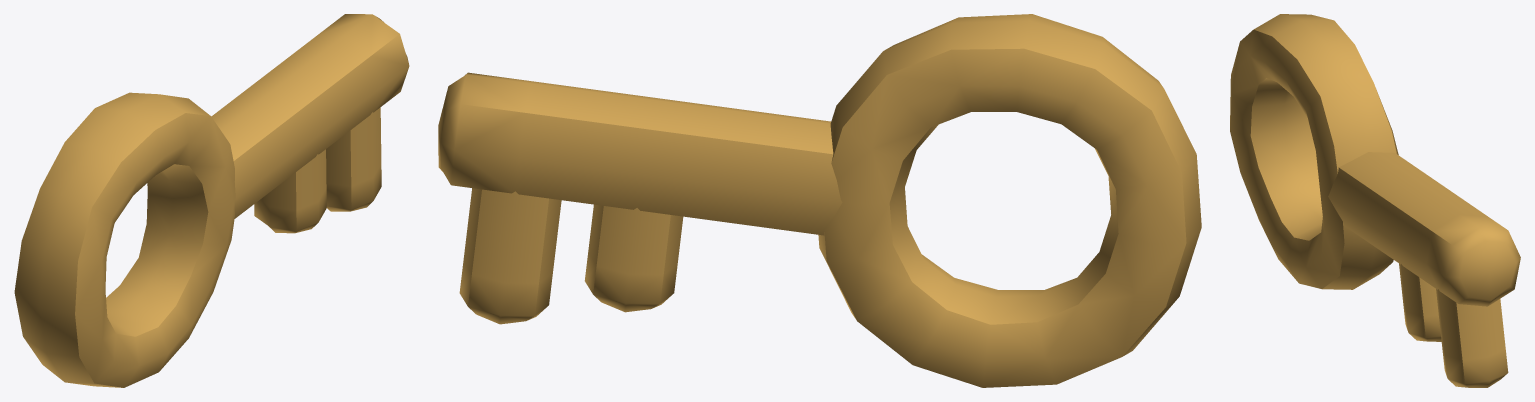
Rendered from Key.fbx.
The picture shows the model from 3 angles, left to right: view 1: azimuth 30°, elevation 25°; view 2: azimuth 150°, elevation 25°; view 3: azimuth 270°, elevation 25°; orthographic projection. The views are drawn at different scales.
Parts seen in each view (by area): view 1: Key; view 2: Key; view 3: Key.
Part boxes in pixels (x1=…): Key: x1=14, y1=14, x2=409, y2=387; Key: x1=438, y1=14, x2=1201, y2=387; Key: x1=1230, y1=14, x2=1520, y2=387.
Size of the model in its own units: 180 by 97.26 by 101.
